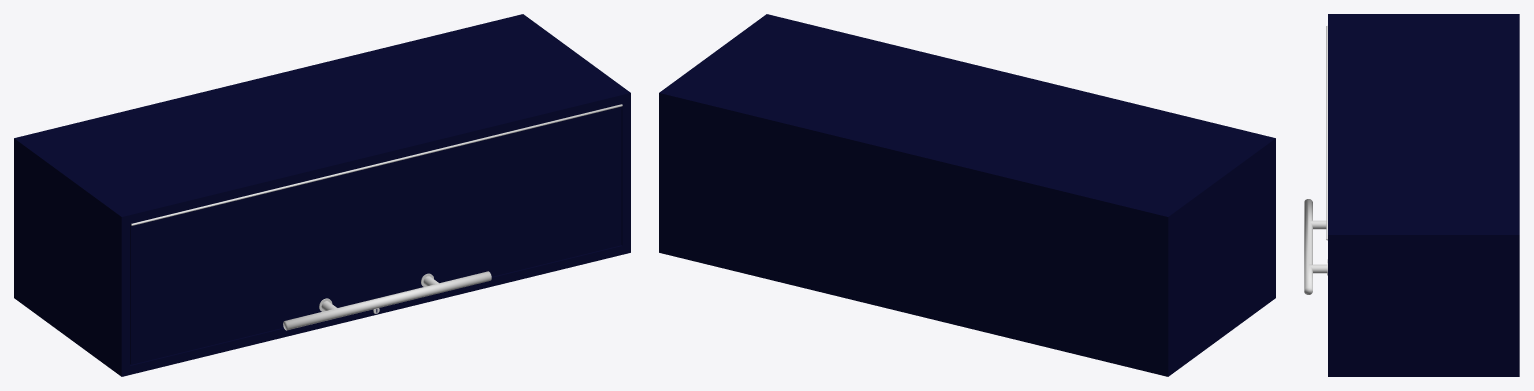
File: overHeads60Lux.glb
3 views of the same model, side by side, from view 1: azimuth 30°, elevation 25°; view 2: azimuth 150°, elevation 25°; view 3: azimuth 270°, elevation 25° (orthographic). The views are drawn at different scales.
Visible parts, largest first — view 1: upperShell, doors, handles, hinge; view 2: upperShell; view 3: upperShell, handles, hinge.
Part boxes in pixels (box(x1,y1,x2,y2)): upperShell: box(14, 14, 630, 376); doors: box(130, 104, 621, 364); handles: box(283, 271, 491, 330); hinge: box(131, 104, 622, 225); upperShell: box(659, 14, 1275, 376); upperShell: box(1328, 14, 1519, 376); handles: box(1304, 199, 1327, 294); hinge: box(1326, 25, 1327, 240).
Size of the model in its own units: 1.52 by 0.4572 by 0.6287.
